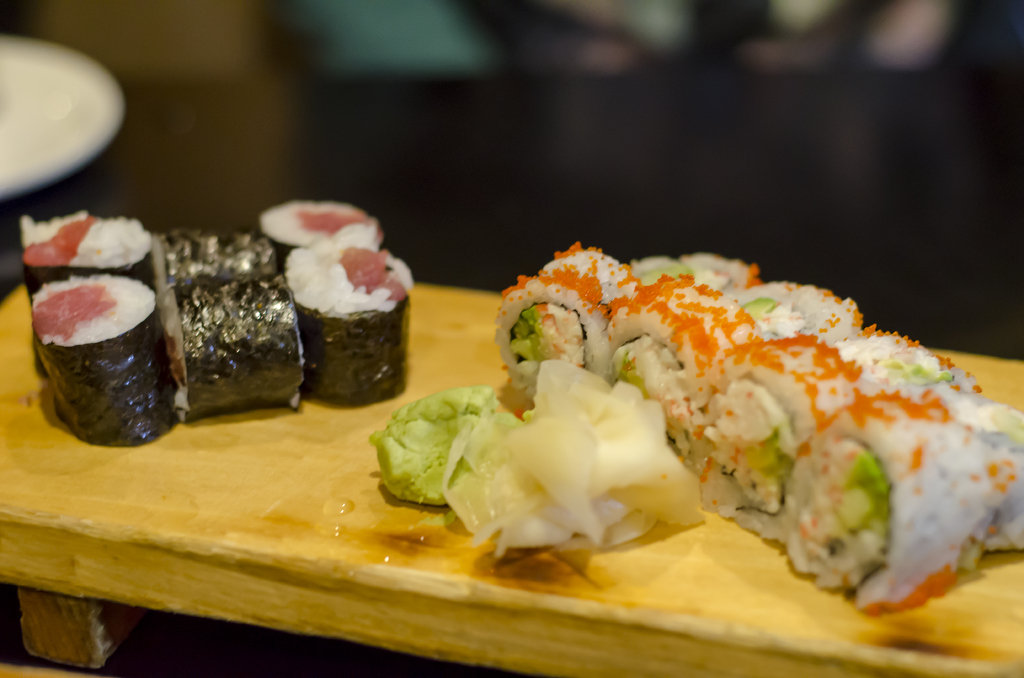sushi: (486, 241, 1020, 609), (15, 212, 394, 435), (490, 246, 643, 402)
